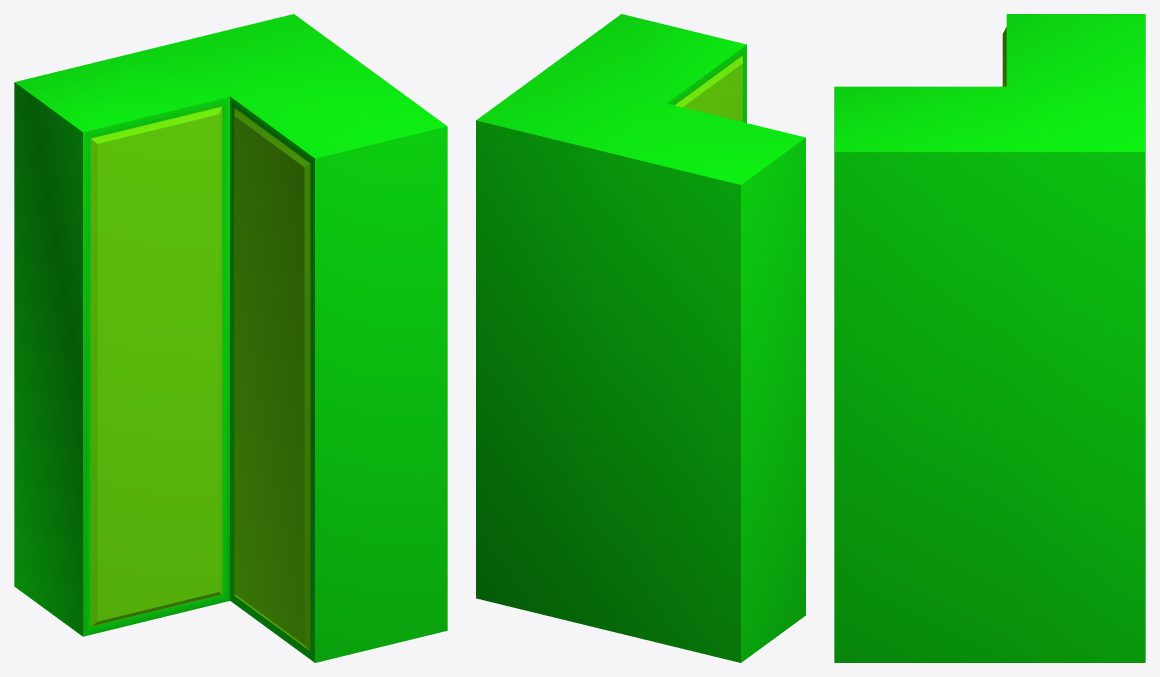
Rendered from Turning wall.fbx.
The picture shows the model from 3 angles, left to right: view 1: azimuth 30°, elevation 25°; view 2: azimuth 150°, elevation 25°; view 3: azimuth 270°, elevation 25°; orthographic projection. The views are drawn at different scales.
Visible parts, largest first — view 1: Box015; view 2: Box015; view 3: Box015.
Boxes of the visible parts, bbox=[...] form: Box015: bbox=[14, 14, 447, 662]; Box015: bbox=[476, 14, 805, 662]; Box015: bbox=[834, 14, 1145, 662].
Size of the model in its own units: 855 by 1474 by 813.
